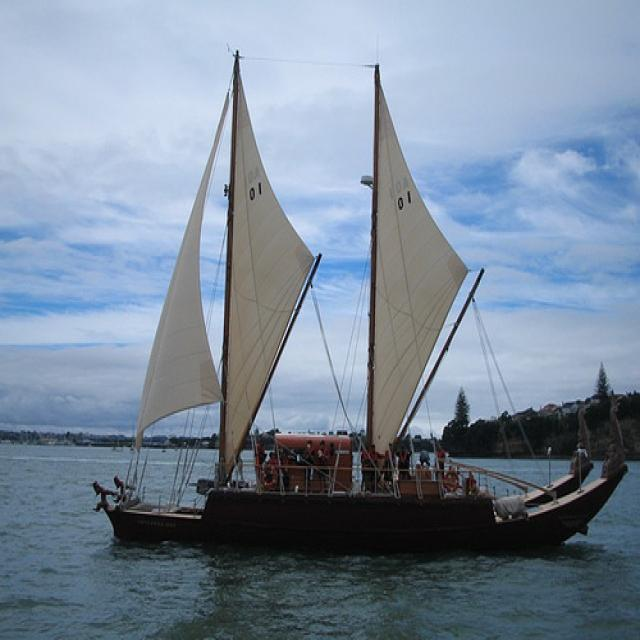boat: (92, 51, 631, 563)
